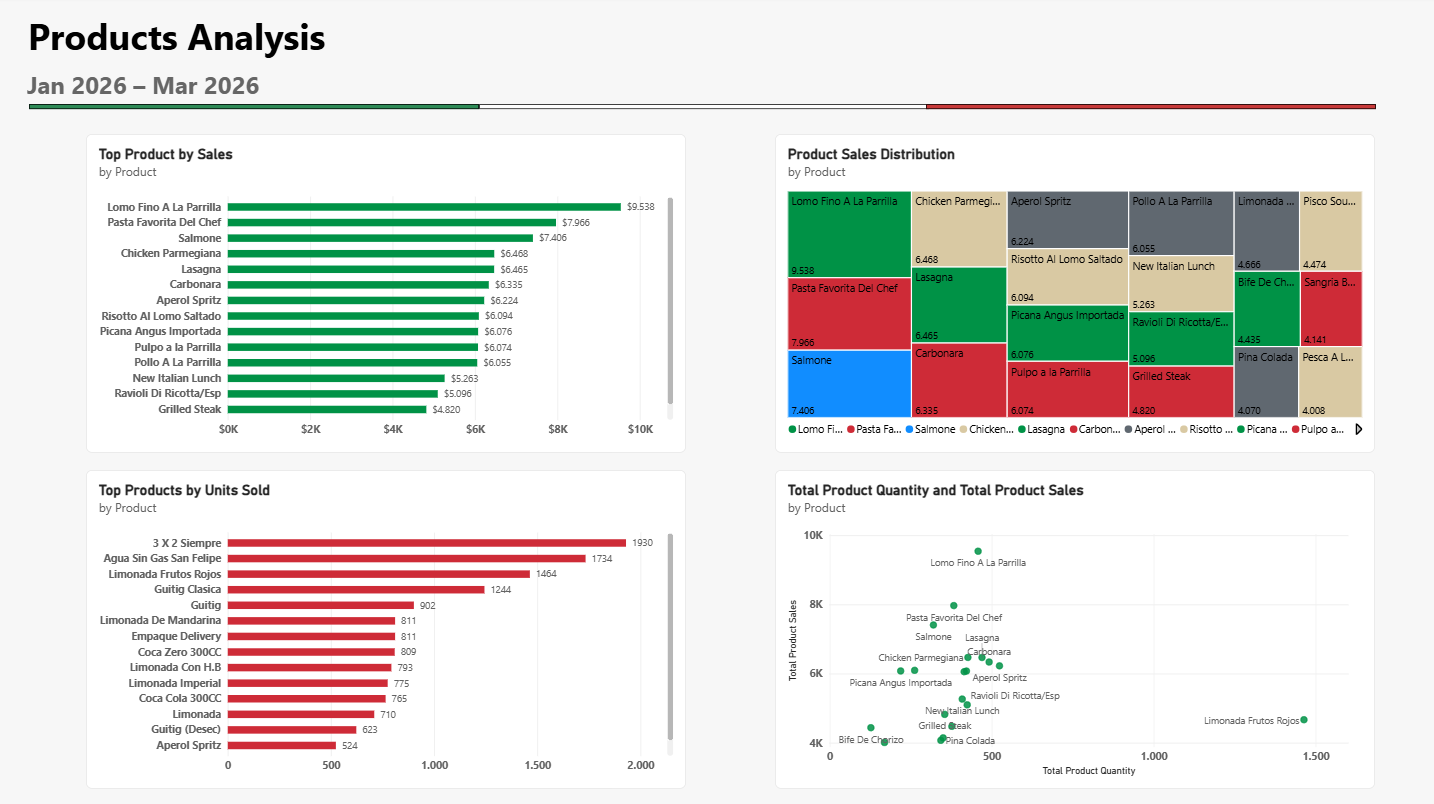

This screenshot's page, from the dashboard's own definition file:
{"tool":"powerbi","page":{"name":"Products Analysis","canvas":[1920,1080],"ordinal":3},"visuals":[{"type":"clusteredBarChart","fields":{"Category":["Products.Product"],"Y":["Calendar.Total Product Sales"]},"box":[117.1,184.3,800,425],"z":0},{"type":"treemap","fields":{"Group":["Products.Product"],"Values":["Calendar.Total Product Sales"]},"box":[1035.7,184.3,800,425],"z":1000},{"type":"scatterChart","fields":{"X":["Calendar.Total Product Quantity"],"Y":["Calendar.Total Product Sales"],"Category":["Products.Product"]},"box":[1035.7,631.4,800,425],"z":2000},{"type":"clusteredBarChart","fields":{"Category":["Products.Product"],"Y":["Calendar.Total Product Quantity"]},"box":[117.1,631.4,800,425],"z":3000},{"type":"textbox","box":[40,20,827.7,150.2],"z":4000},{"type":"textbox","box":[39.3,95.6,650.2,68.3],"z":5000},{"type":"shape","box":[40.7,143.8,600,6.8],"z":6000},{"type":"shape","box":[641.4,143.8,600,6.8],"z":7000},{"type":"shape","box":[1237.1,143.8,600,6.8],"z":8000}]}

Visuals, with their boxes in screenshot pixels (x1, y1, x2, y2), scaled from the page's 1920x1080 canvas onto the 1434x804 screenshot:
clusteredBarChart - Products.Product x Calendar.Total Product Sales: [87, 137, 685, 454]
treemap - Products.Product x Calendar.Total Product Sales: [774, 137, 1371, 454]
scatterChart - Calendar.Total Product Quantity x Calendar.Total Product Sales: [774, 470, 1371, 786]
clusteredBarChart - Products.Product x Calendar.Total Product Quantity: [87, 470, 685, 786]
textbox: [30, 15, 648, 127]
textbox: [29, 71, 515, 122]
shape: [30, 107, 479, 112]
shape: [479, 107, 927, 112]
shape: [924, 107, 1372, 112]
